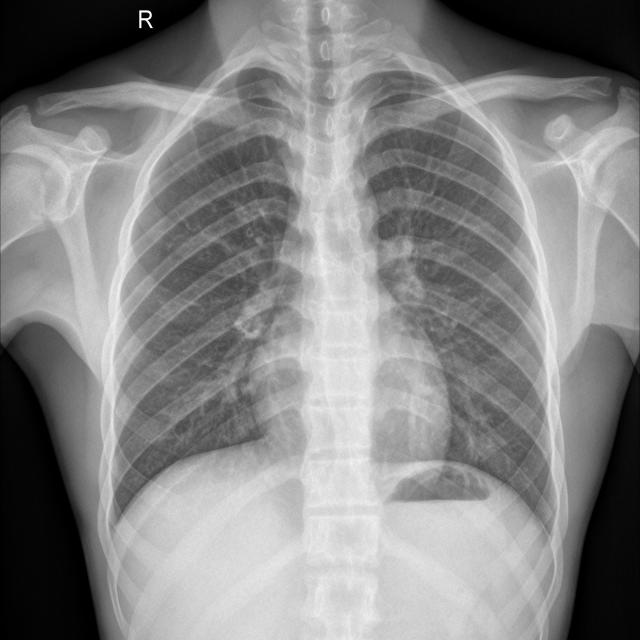no-pneumonia: (359, 71, 556, 531), (113, 66, 301, 516)
